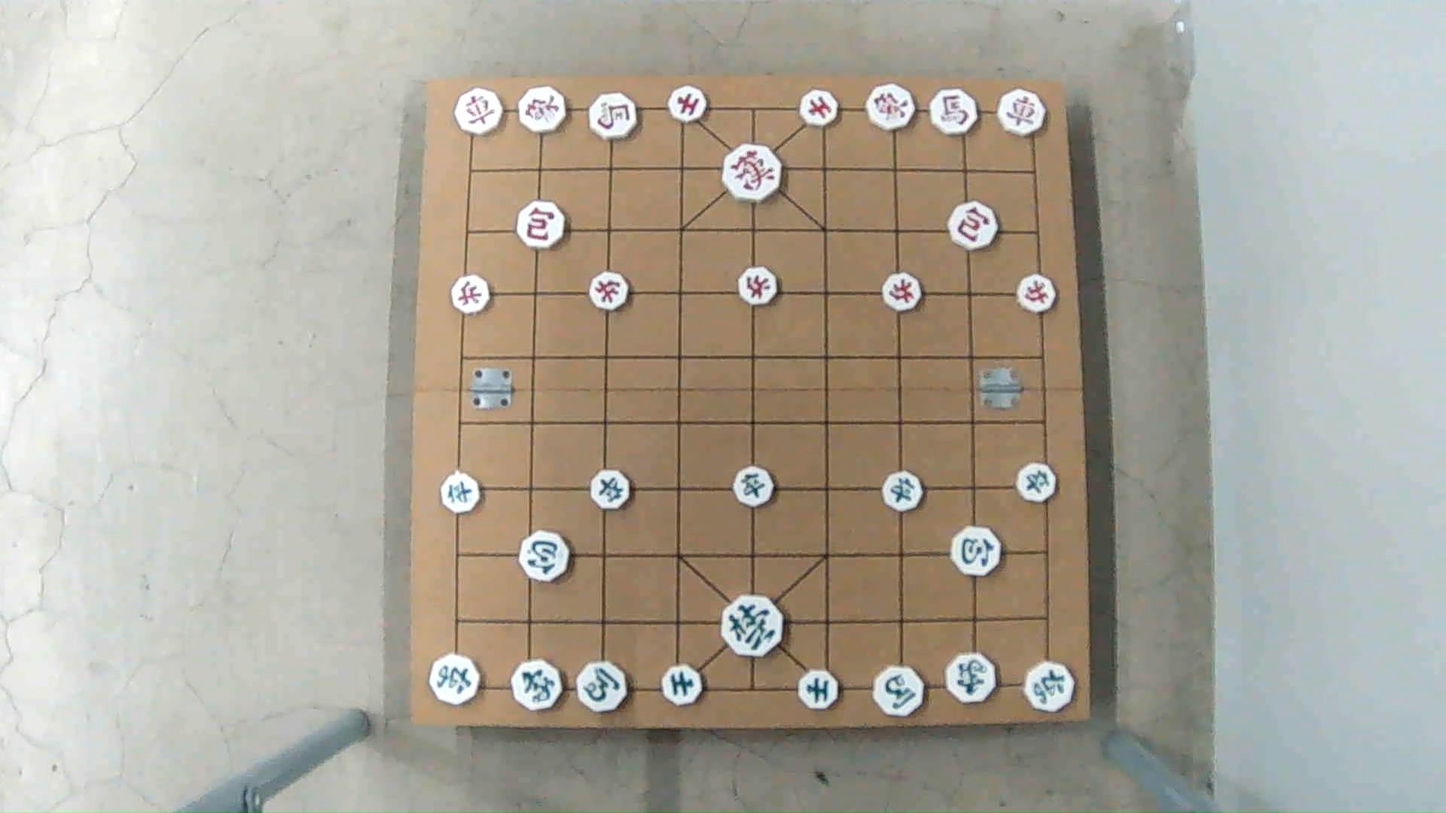cha_green: (429, 652, 480, 705), (1023, 663, 1078, 711)
cha_red: (995, 90, 1048, 133), (455, 93, 508, 136)
jol_green: (589, 468, 632, 508), (1013, 464, 1058, 500), (731, 470, 774, 507), (439, 475, 483, 511), (880, 473, 924, 508)
jol_red: (1015, 277, 1061, 311), (450, 276, 493, 312), (736, 269, 779, 304), (587, 275, 631, 309), (881, 275, 924, 309)
ma_green: (573, 662, 630, 710), (871, 667, 926, 716)
ma_red: (587, 93, 641, 138), (929, 92, 981, 133)
po_green: (947, 528, 1000, 574), (516, 535, 570, 580)
po_red: (514, 204, 567, 248), (949, 206, 1001, 250)
sa_green: (795, 671, 840, 708), (660, 667, 701, 705)
sa_red: (666, 87, 708, 121), (796, 92, 839, 125)
sang_green: (943, 655, 997, 703), (511, 662, 566, 709)
sang_red: (865, 88, 919, 132), (516, 87, 571, 130)
wang_green: (719, 598, 786, 656)
wang_red: (721, 146, 786, 202)
